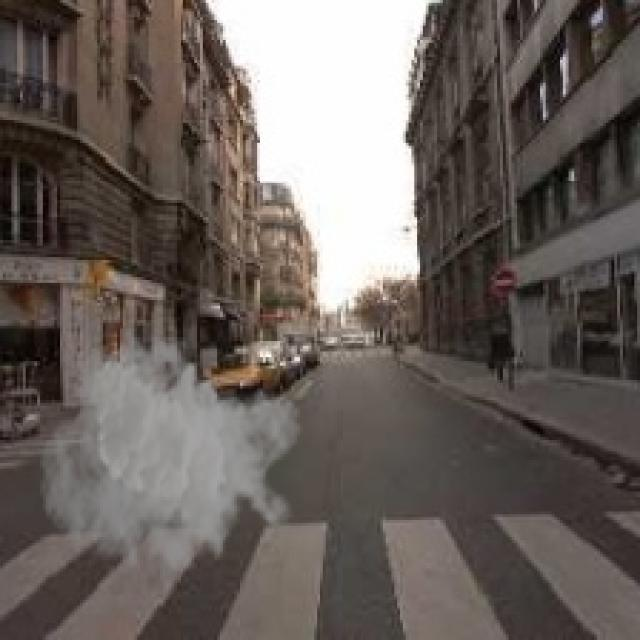Smoke: (37, 323, 303, 600)
